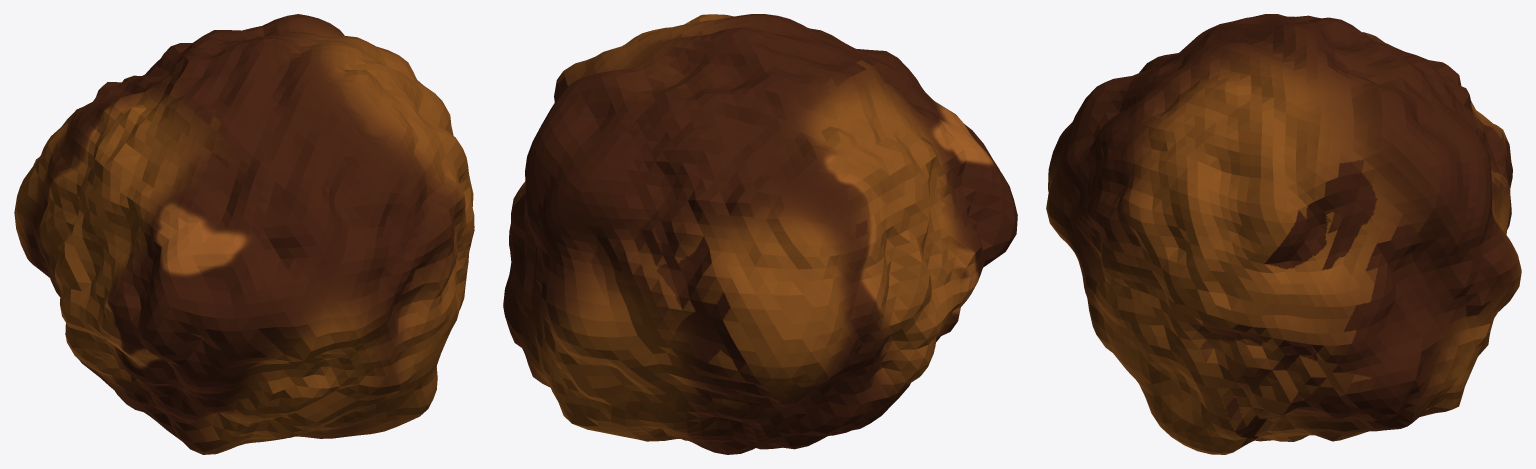
File: eleonora.glb
The picture shows the model from 3 angles, left to right: view 1: azimuth 30°, elevation 25°; view 2: azimuth 150°, elevation 25°; view 3: azimuth 270°, elevation 25°; orthographic projection. The views are drawn at different scales.
Visible parts, largest first — view 1: Eleonora; view 2: Eleonora; view 3: Eleonora.
Part boxes in pixels (x1=…): Eleonora: x1=14, y1=14, x2=474, y2=454; Eleonora: x1=503, y1=14, x2=1017, y2=454; Eleonora: x1=1046, y1=14, x2=1521, y2=454.
Bounding box in the file's own units: 4.31 × 4.07 × 4.49.
Materials: 1 (1 with a texture image).
